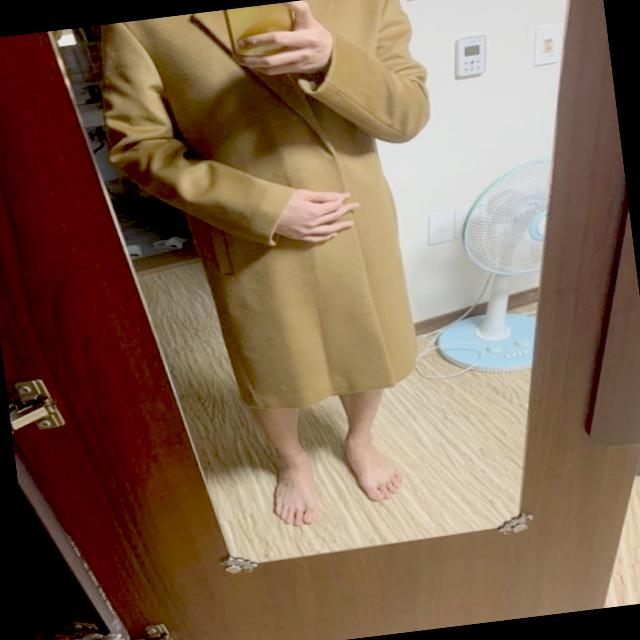coat: (97, 0, 465, 429)
